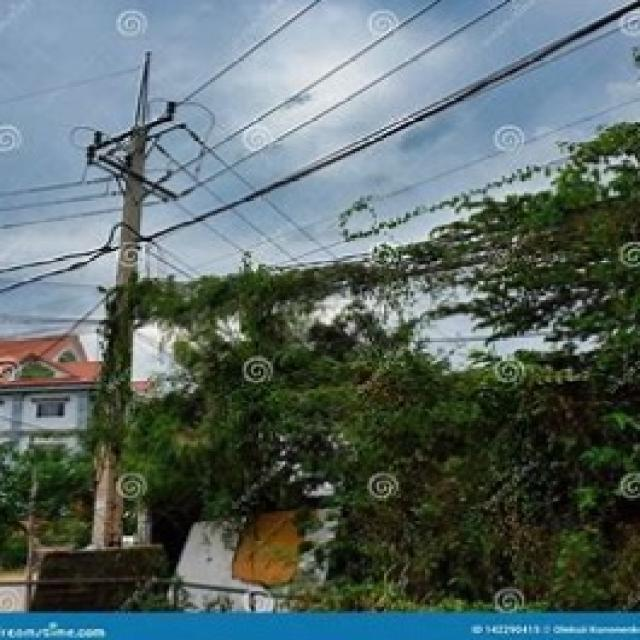critical vegetation: (111, 237, 640, 385)
